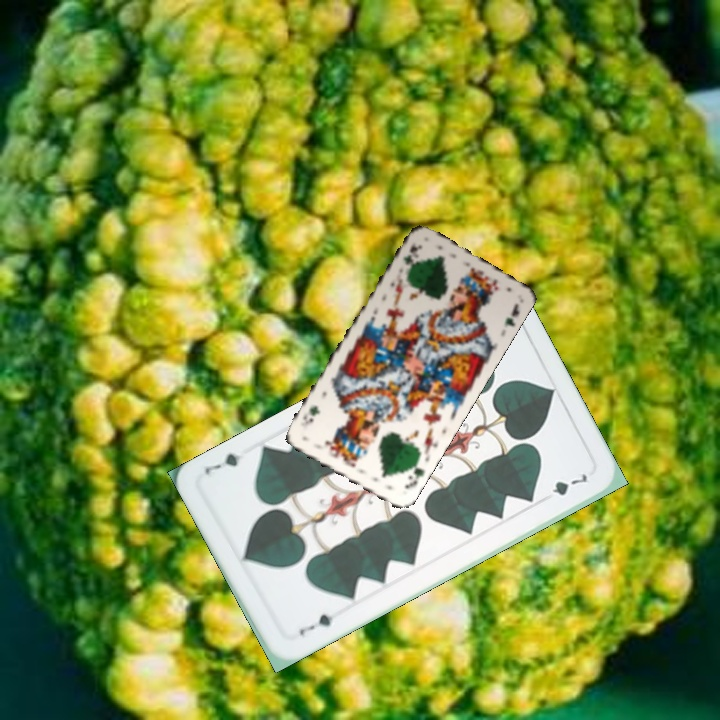G7: (295, 609, 336, 638)
GK: (400, 458, 427, 491), (399, 239, 423, 268)
